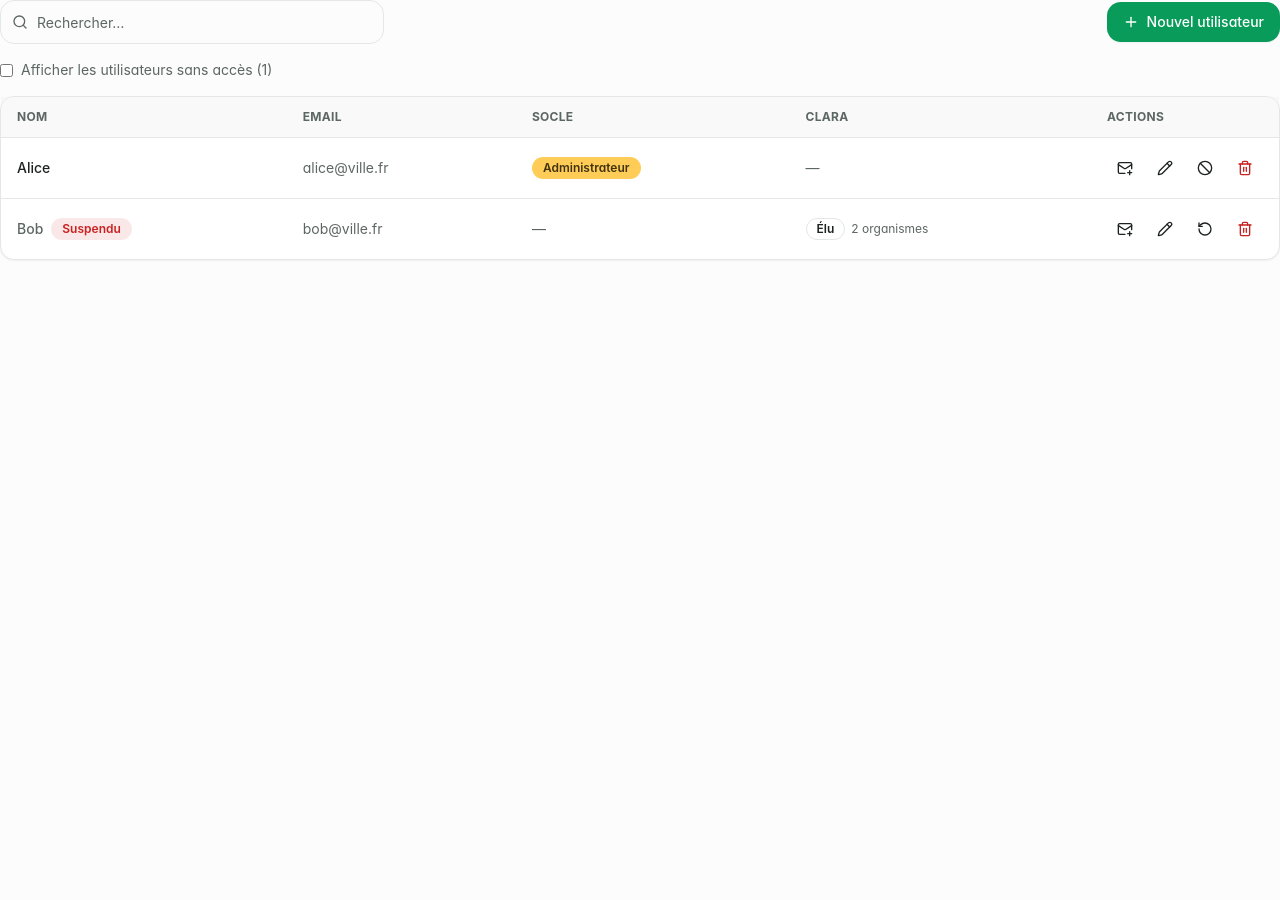
Test case: UsersManagementPage › création : un tableau d'organismes par application ouverte, envoyé à invite-user
Later steps or results of the test are not shown.
Click the button "Nouvel utilisateur". click: (1193, 22)
box: [1107,2,1279,42]
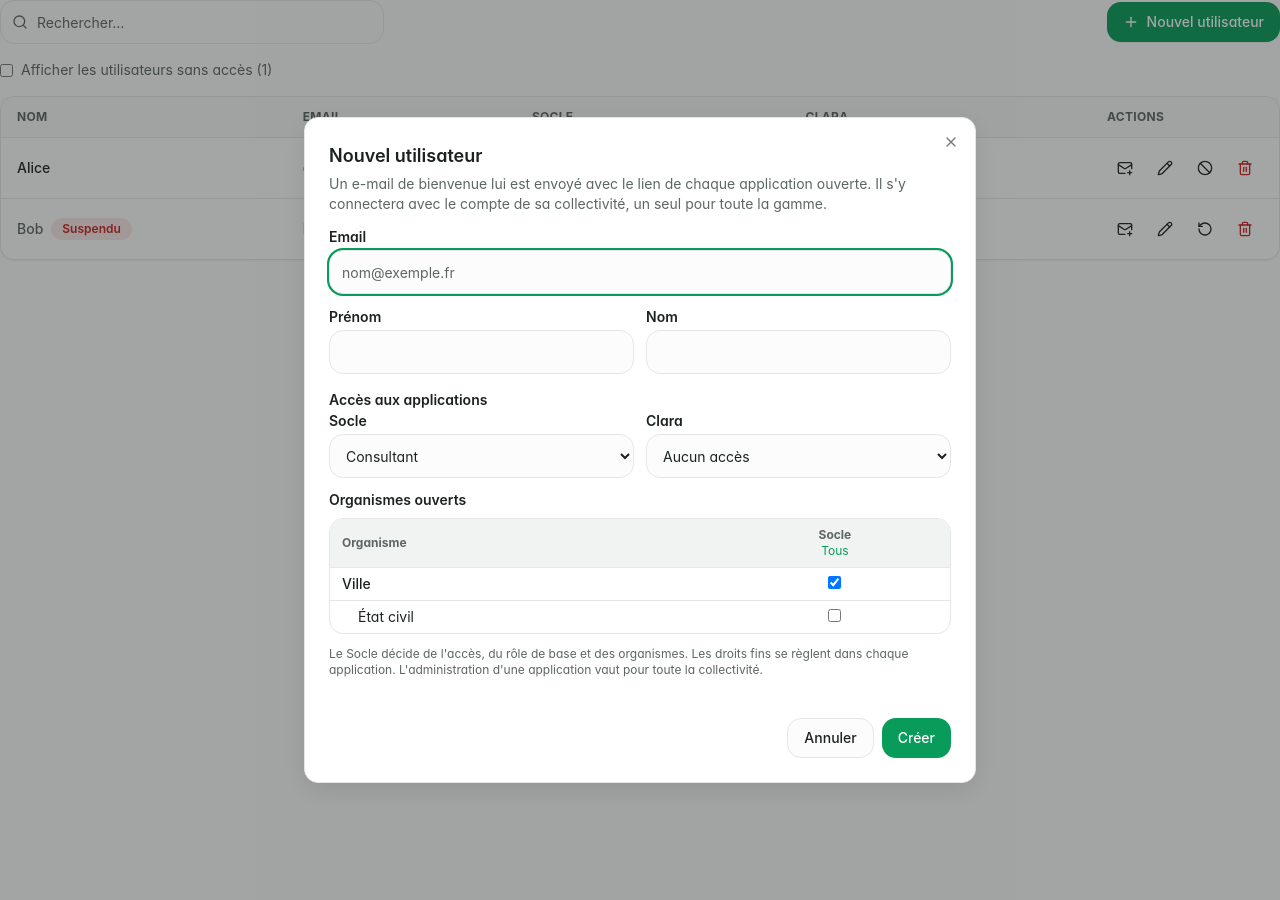
Type "carole@ville.fr" into the field labelled "Email". click: (640, 272)
box: [329,250,951,294]
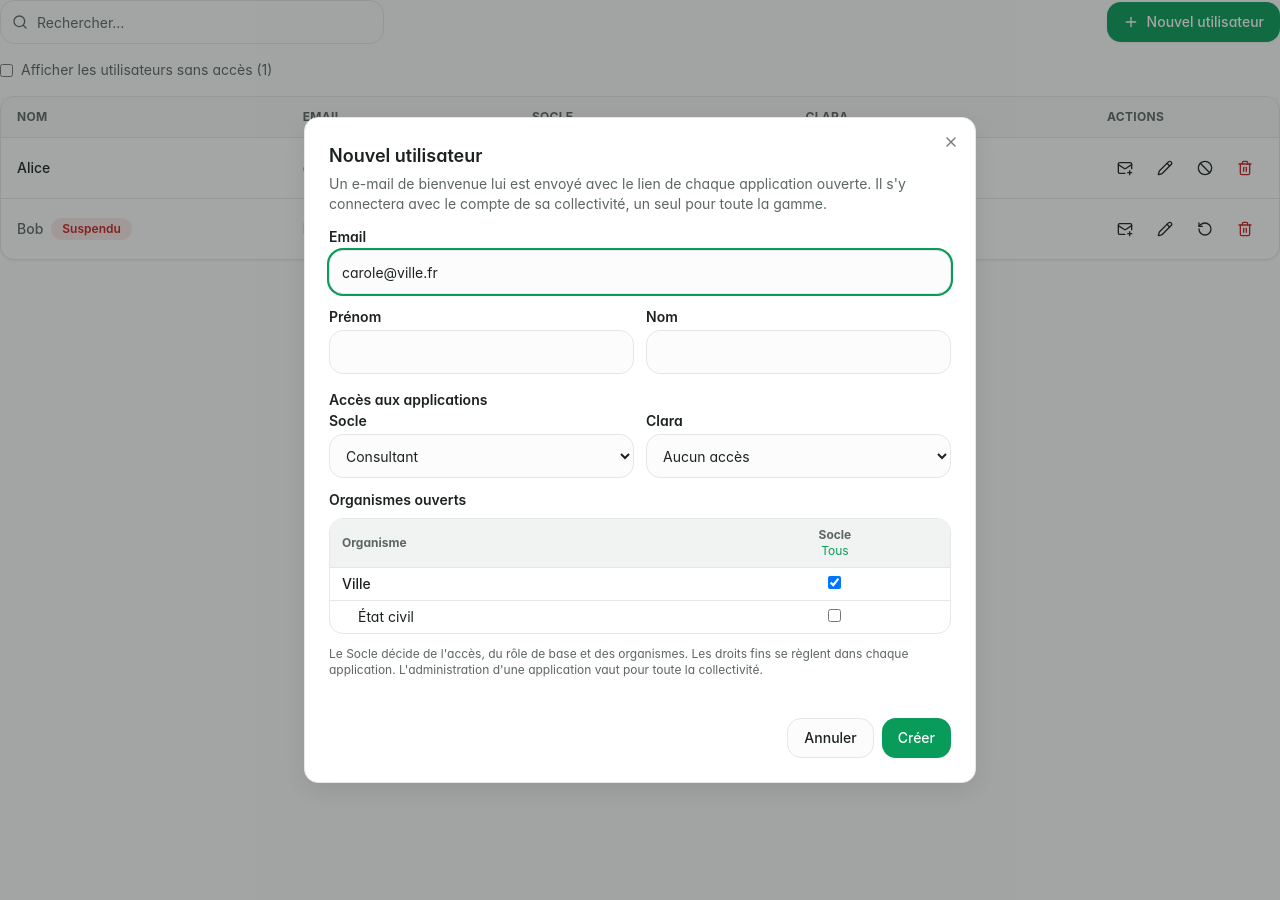
Type "Carole" into the field labelled "Prénom". click: (482, 352)
box: [329,330,634,374]
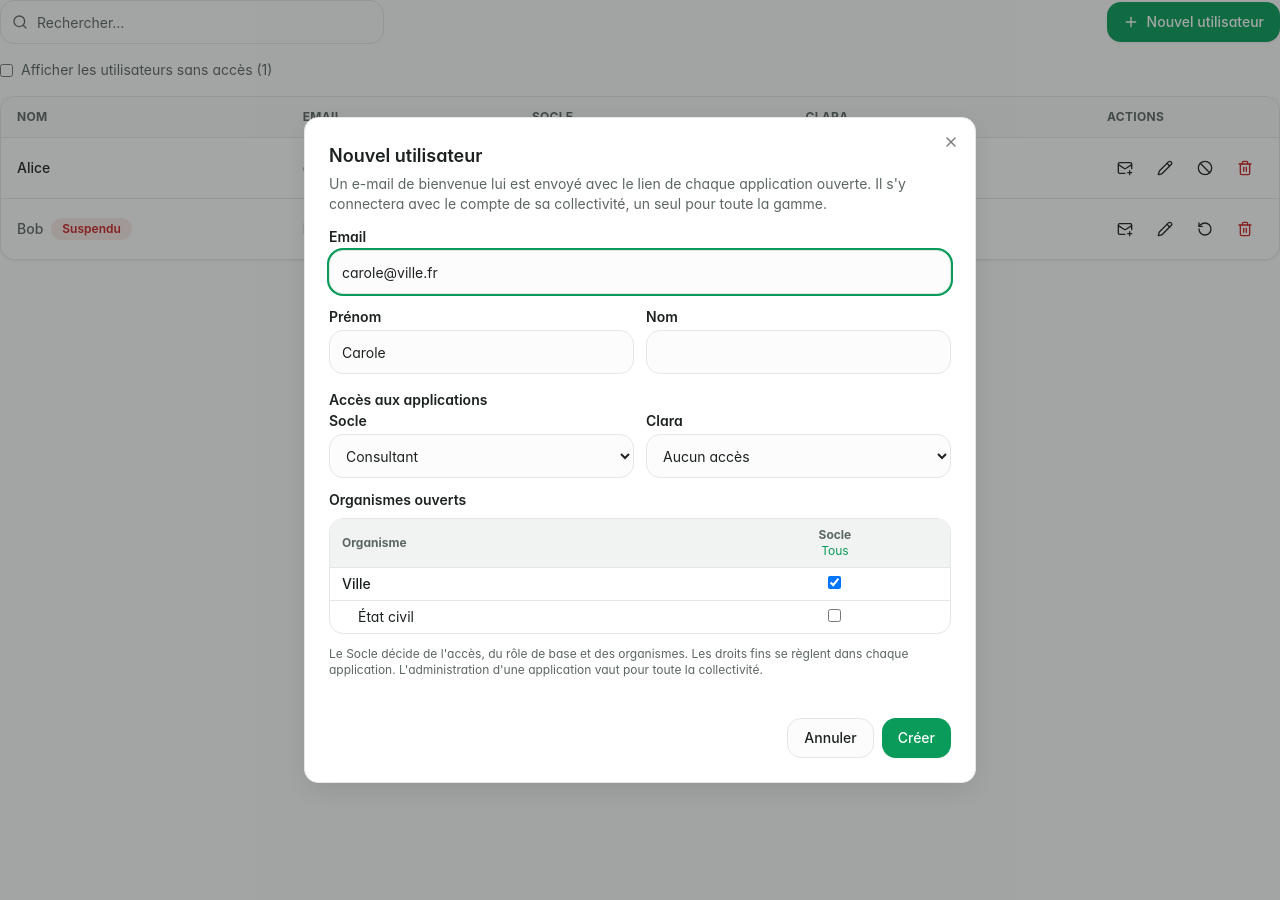
Type "Durand" into the field labelled "Nom". click: (798, 352)
box: [646,330,951,374]
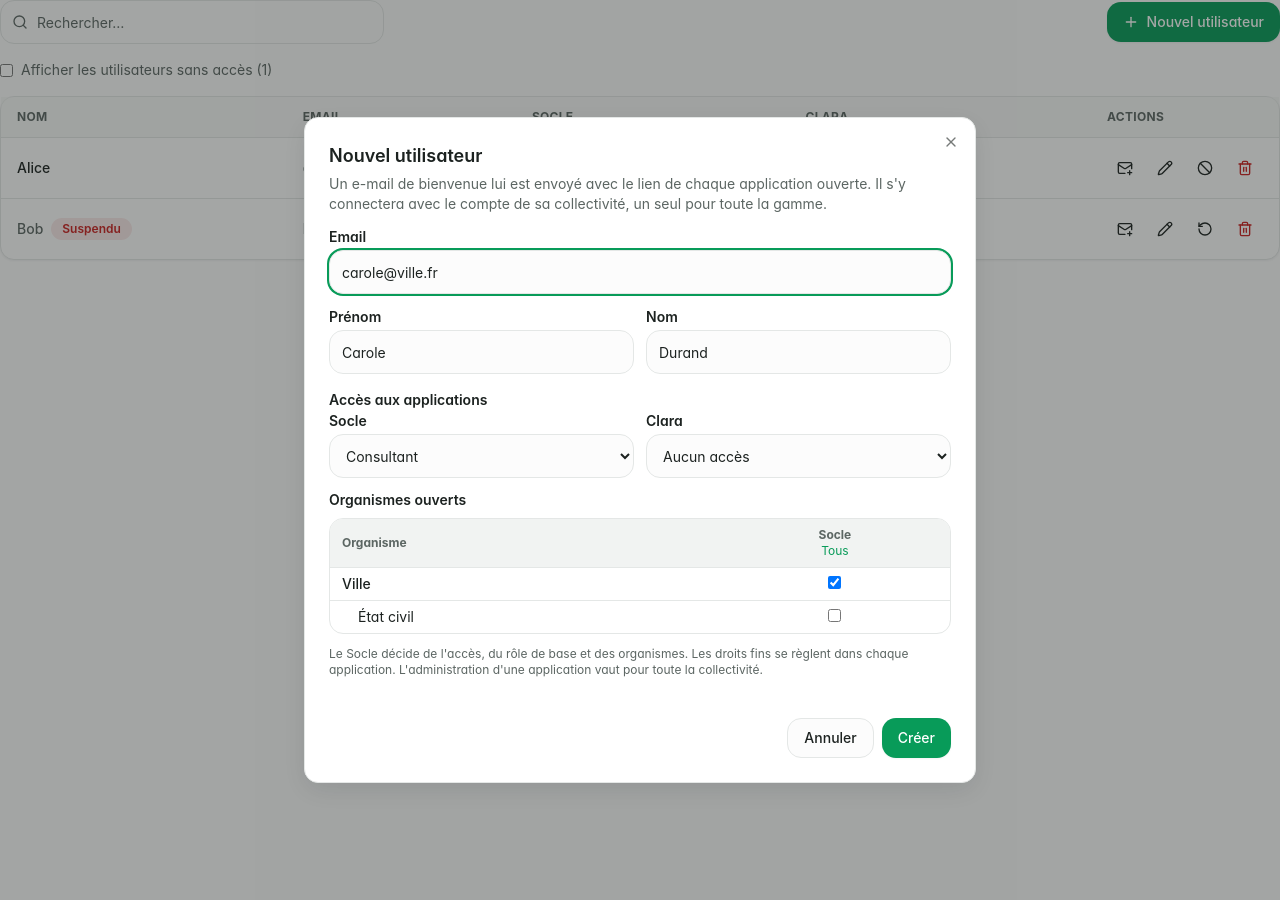
Select "Élu" in the dropdown labelled "Clara". click: (798, 456)
box: [646,434,951,478]
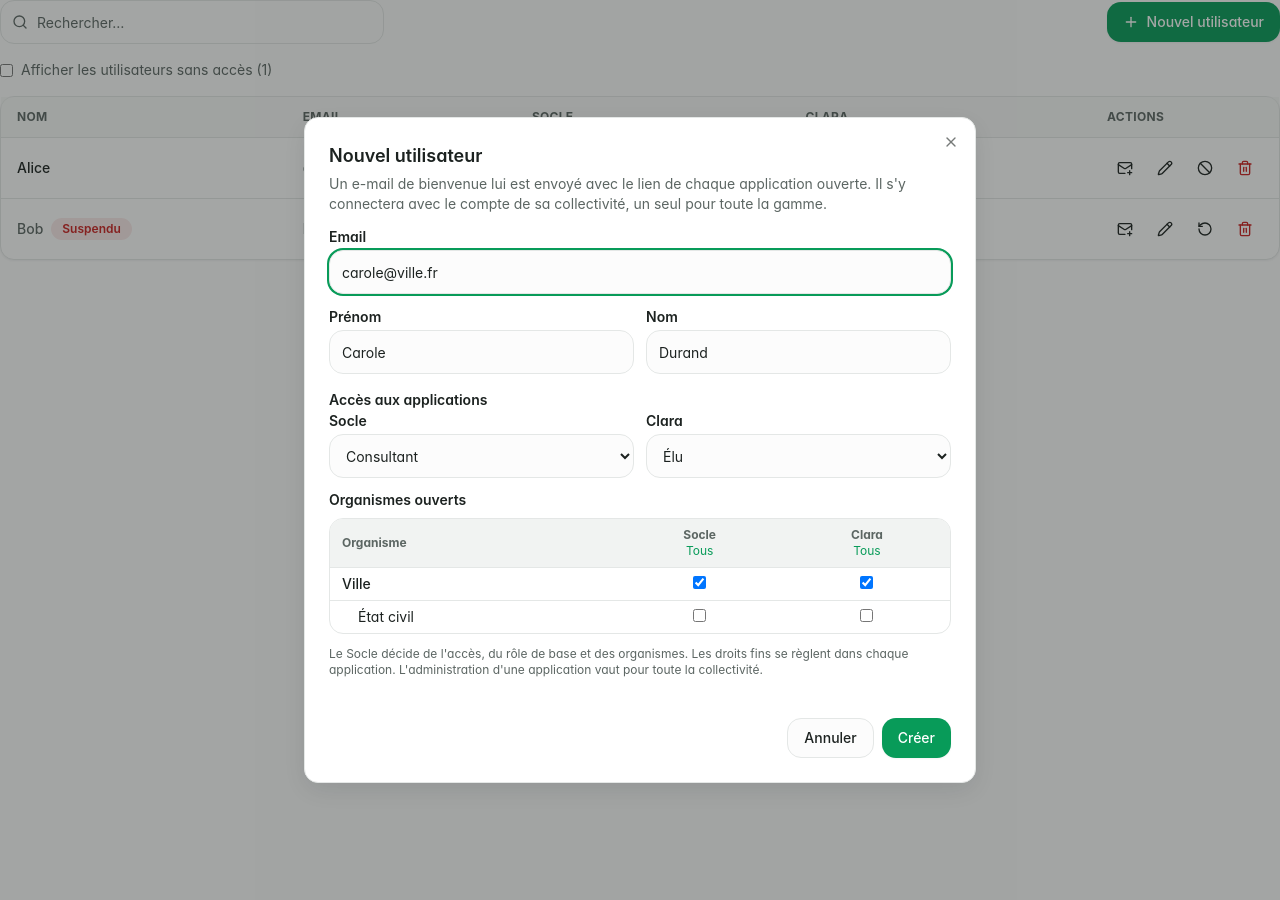
Expected: the checkbox named "Clara — Ville" is checked, [860,576,874,589]
